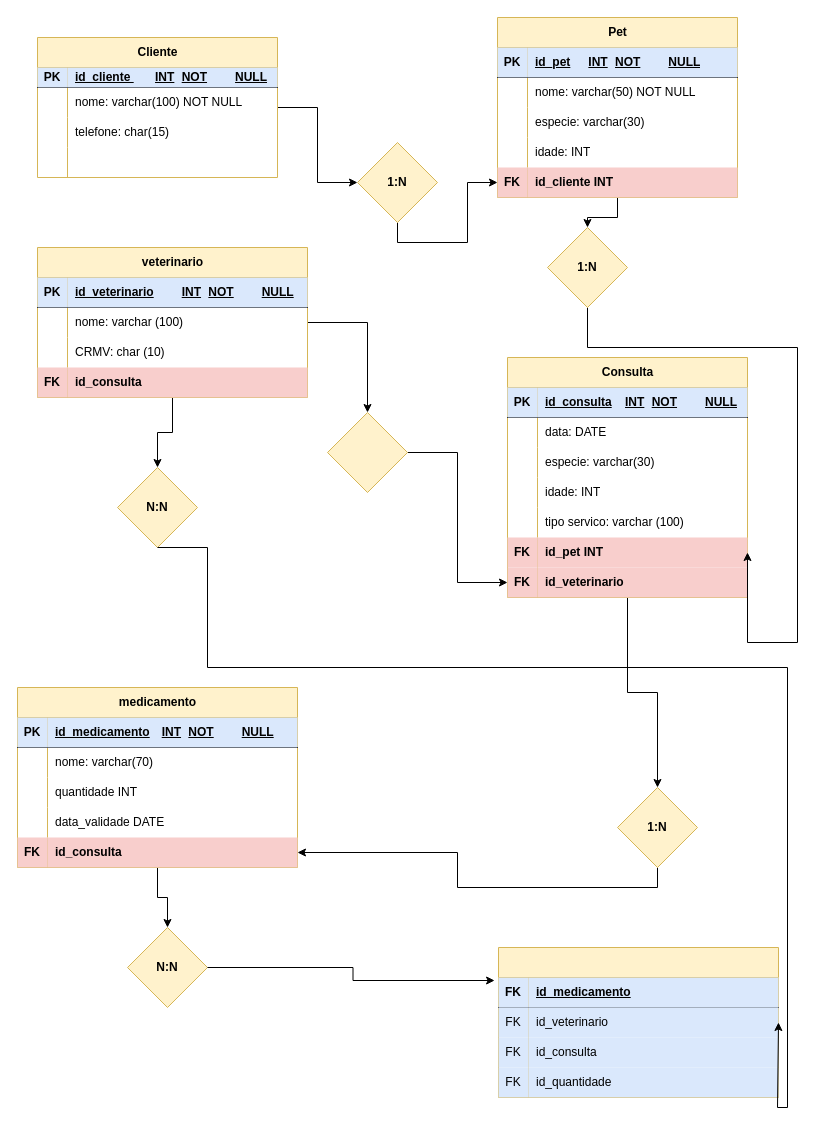
The diagram is 823 pixels wide and 1133 high, and some of its shapes have lost their labels. The box of each missing label's shape, as (x1, y1, x2, y2) in pixels:
medicamento_aplicado: (498, 946, 778, 1098)
N:1: (326, 412, 408, 492)
